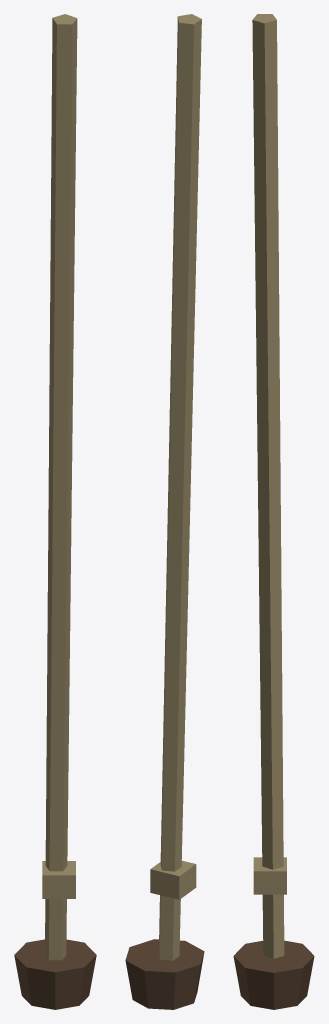
Rendered from s3_well_rope.glb.
The picture shows the model from 3 angles, left to right: view 1: azimuth 90°, elevation 25°; view 2: azimuth 150°, elevation 25°; view 3: azimuth 270°, elevation 25°; orthographic projection.
Visible parts, largest first — view 1: s3_well_rope; view 2: s3_well_rope; view 3: s3_well_rope.
Part boxes in pixels (left/top/right/bottom): s3_well_rope: left=14, top=14, right=96, bottom=1009; s3_well_rope: left=125, top=14, right=204, bottom=1009; s3_well_rope: left=233, top=14, right=314, bottom=1009.
Bounding box in the file's own units: 0.44 × 5.8 × 0.44.
